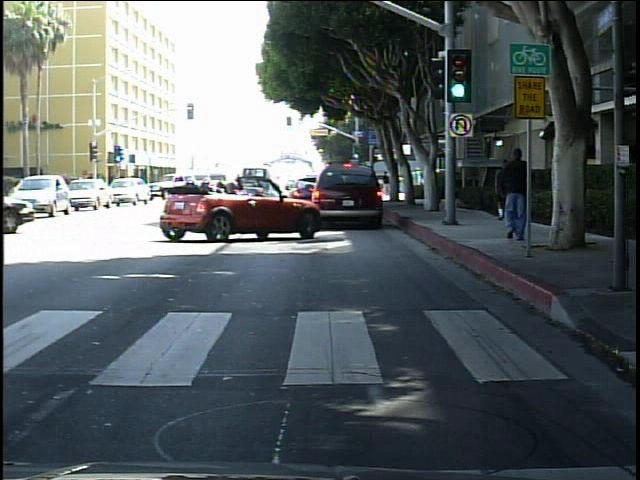person: (497, 140, 531, 241), (492, 148, 517, 227)
